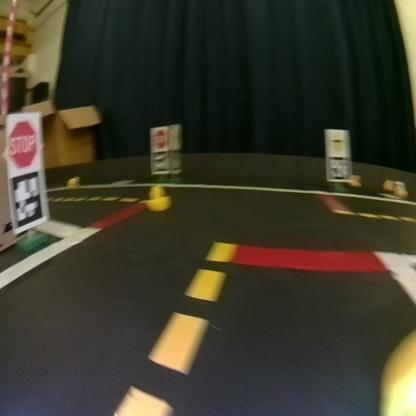duckie: (137, 174, 175, 218)
